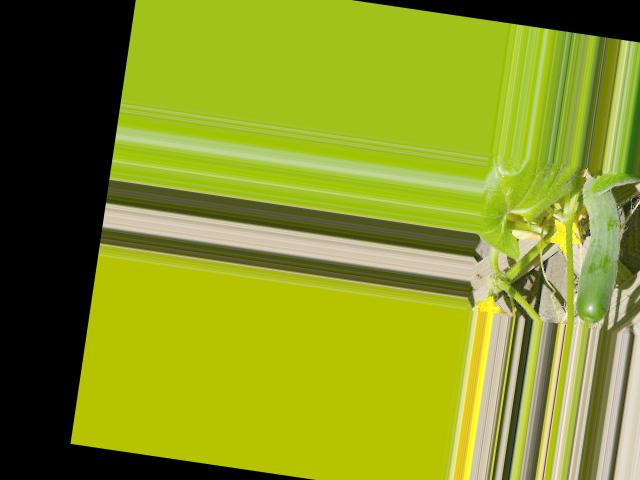cucumber: (564, 168, 632, 323)
